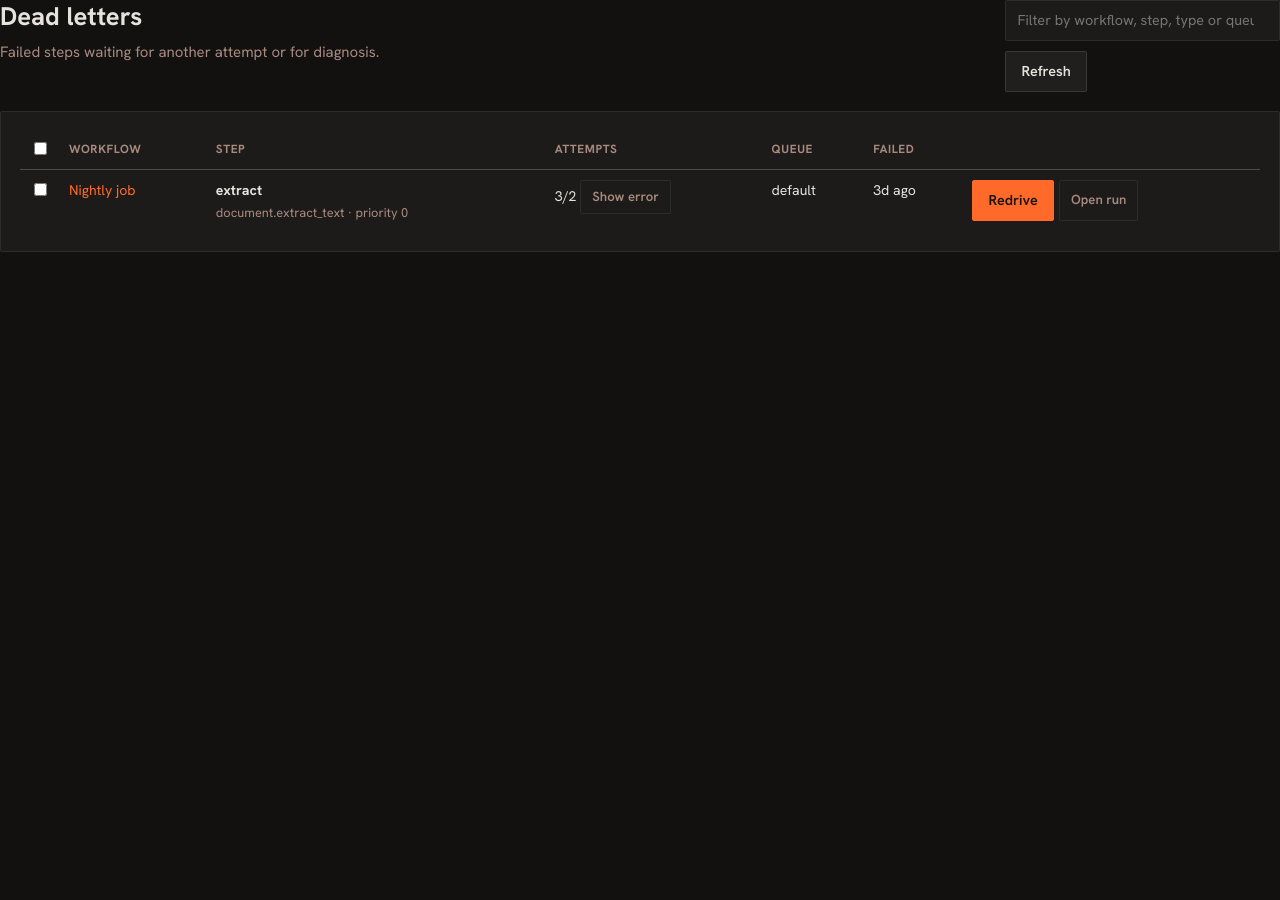
Test: DlqPage › bulk redrives selected entries after confirmation
Check: the link "Nightly job" is shown, box left=69, top=181, right=136, bottom=199
Click the checkbox named "Select step extract". click: [40, 189]
box: left=34, top=183, right=47, bottom=196
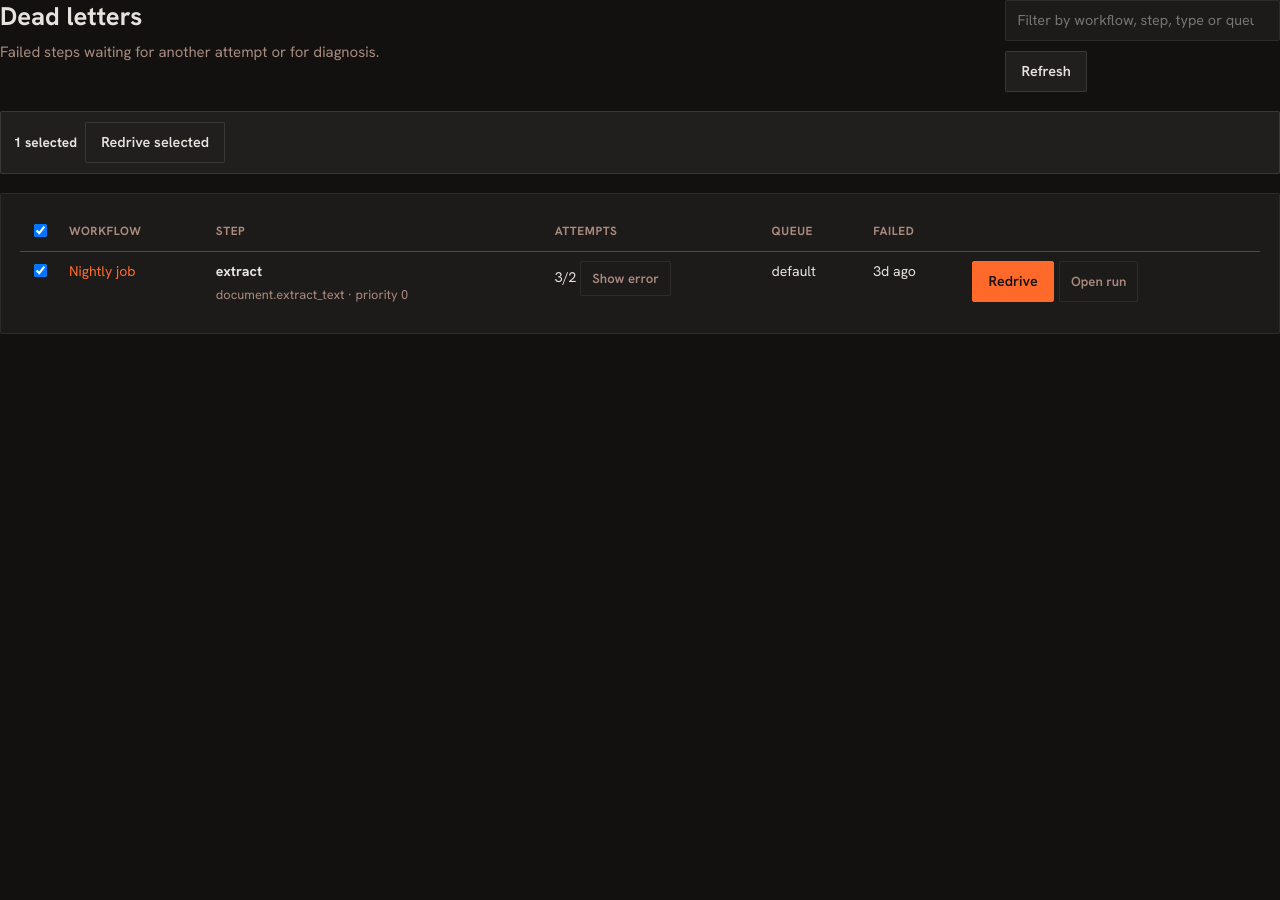
Click the button "Redrive selected". click: [155, 142]
box: left=85, top=122, right=225, bottom=163
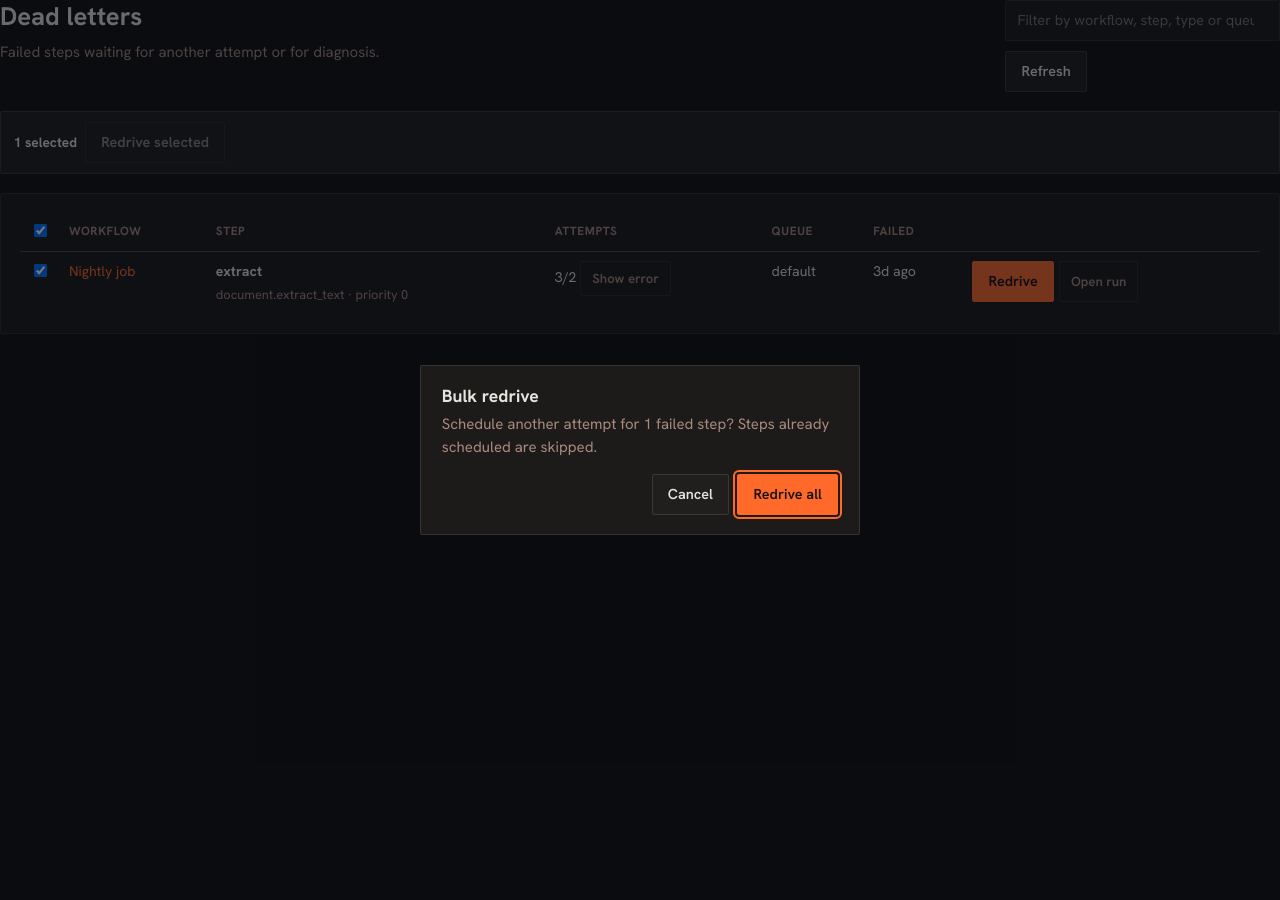
Click the button "Redrive all". click: [788, 495]
box: left=737, top=474, right=838, bottom=515
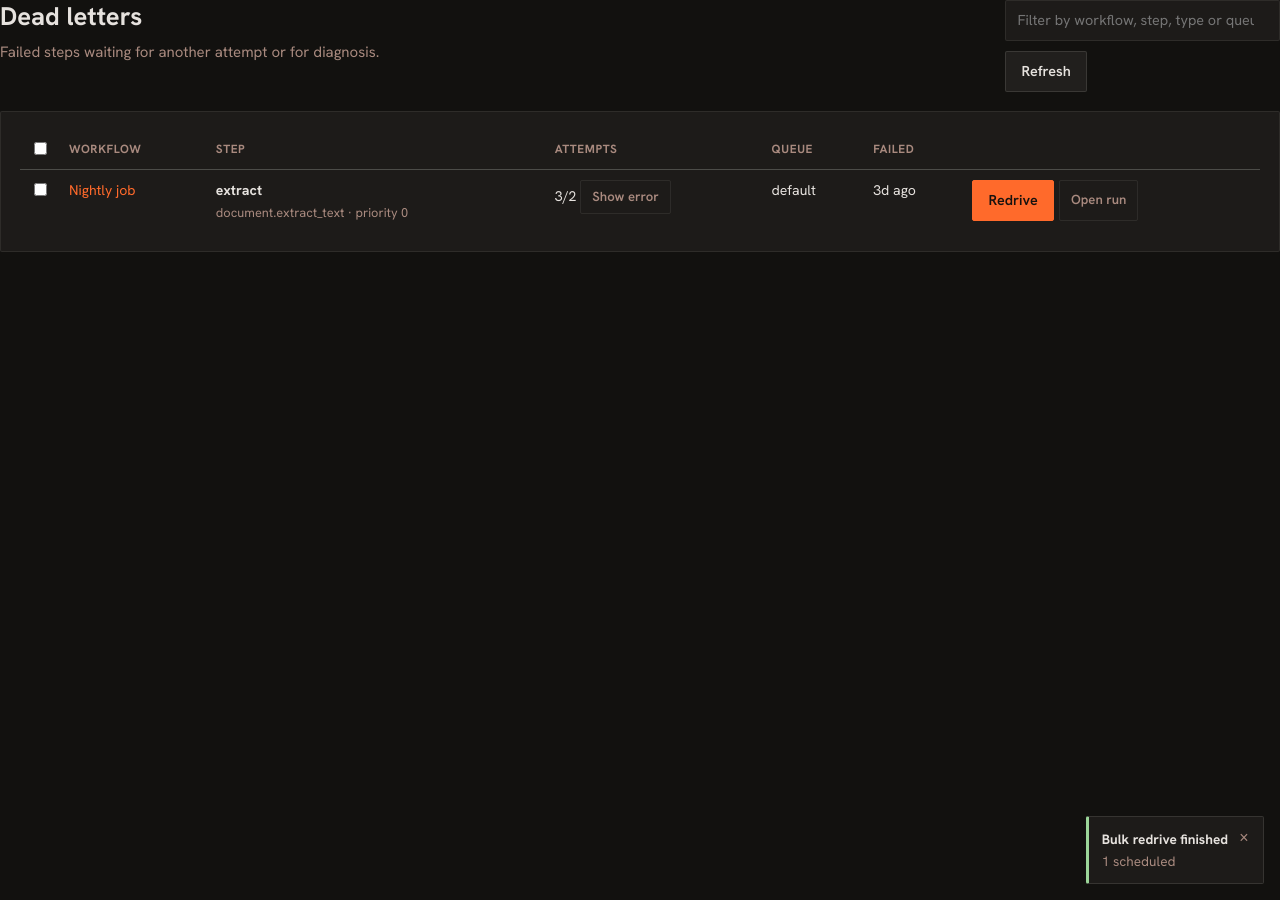
Check: the message "Bulk redrive finished 1 scheduled ×" is shown, box left=1086, top=816, right=1264, bottom=884
